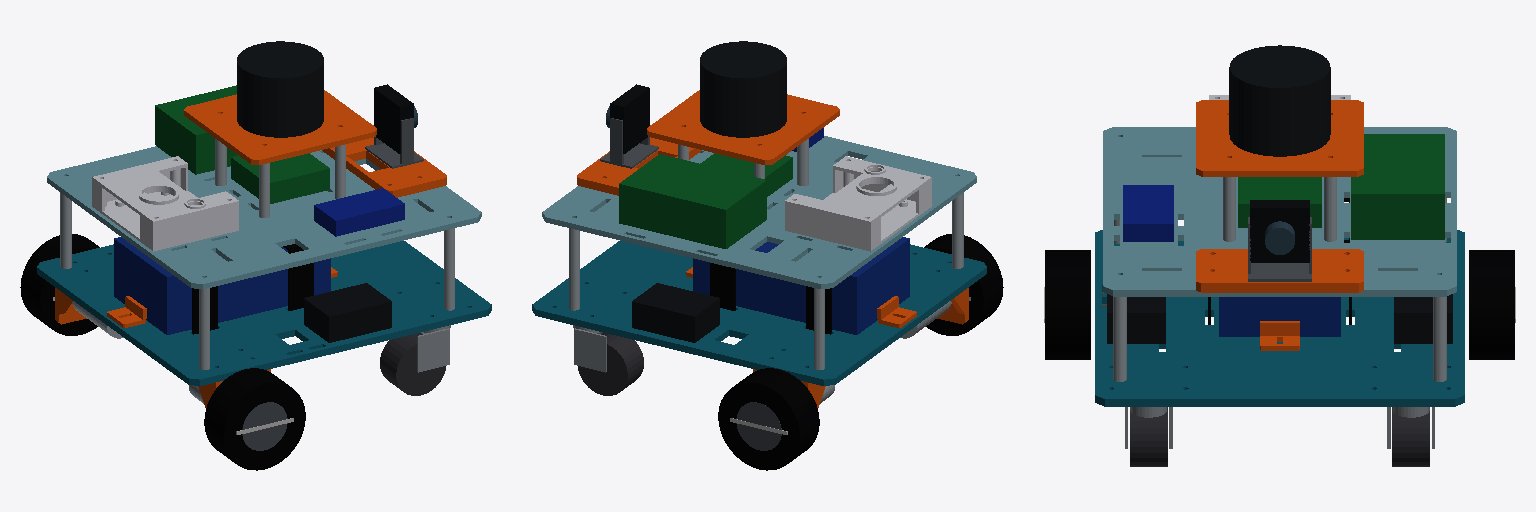
The robot description file, URDF, robot "smartcar":
<?xml version='1.0' encoding='utf-8'?>
<robot name="smartcar">
  <link name="base_footprint" />
  <joint name="base_footprint_joint" type="fixed">
    <parent link="base_footprint" />
    <child link="base_link" />
    <origin xyz="0 0 0.0325" rpy="0 0 0" />
  </joint>
  <link name="base_link">
    <inertial>
      <origin xyz="0.06 0 0.07" />
      <mass value="3.0" />
      <inertia ixx="0.0185" iyy="0.0208" izz="0.0265" ixy="0" ixz="0" iyz="0" />
    </inertial>
    <visual name="base_link_visual_0">
      <origin xyz="0 0 0" rpy="0 0 0" />
      <geometry>
        <mesh filename="package://smartcar_sim/models/smartcar/meshes/01_main_chassis.stl" />
      </geometry>
      <material name="base_link_color_0">
        <color rgba="0.08 0.35 0.42 1" />
      </material>
    </visual>
    <visual name="base_link_visual_1">
      <origin xyz="0 0 0" rpy="0 0 0" />
      <geometry>
        <mesh filename="package://smartcar_sim/models/smartcar/meshes/right_m2006_bracket.stl" />
      </geometry>
      <material name="base_link_color_1">
        <color rgba="0.8 0.32 0.06 1" />
      </material>
    </visual>
    <visual name="base_link_visual_2">
      <origin xyz="0 0 0" rpy="0 0 0" />
      <geometry>
        <mesh filename="package://smartcar_sim/models/smartcar/meshes/left_m2006_bracket.stl" />
      </geometry>
      <material name="base_link_color_2">
        <color rgba="0.8 0.32 0.06 1" />
      </material>
    </visual>
    <visual name="base_link_visual_3">
      <origin xyz="0 0 0" rpy="0 0 0" />
      <geometry>
        <mesh filename="package://smartcar_sim/models/smartcar/meshes/battery_rear_stop.stl" />
      </geometry>
      <material name="base_link_color_3">
        <color rgba="0.8 0.32 0.06 1" />
      </material>
    </visual>
    <visual name="base_link_visual_4">
      <origin xyz="0 0 0" rpy="0 0 0" />
      <geometry>
        <mesh filename="package://smartcar_sim/models/smartcar/meshes/battery_front_stop.stl" />
      </geometry>
      <material name="base_link_color_4">
        <color rgba="0.8 0.32 0.06 1" />
      </material>
    </visual>
    <visual name="base_link_visual_5">
      <origin xyz="0 0 0" rpy="0 0 0" />
      <geometry>
        <mesh filename="package://smartcar_sim/models/smartcar/meshes/upper_existing_power_box_v6_tray.stl" />
      </geometry>
      <material name="base_link_color_5">
        <color rgba="0.75 0.75 0.78 1" />
      </material>
    </visual>
    <visual name="base_link_visual_6">
      <origin xyz="0 0 0" rpy="0 0 0" />
      <geometry>
        <mesh filename="package://smartcar_sim/models/smartcar/meshes/upper_existing_power_box_v6_lid.stl" />
      </geometry>
      <material name="base_link_color_6">
        <color rgba="0.75 0.75 0.78 1" />
      </material>
    </visual>
    <visual name="base_link_visual_7">
      <origin xyz="0 0 0" rpy="0 0 0" />
      <geometry>
        <mesh filename="package://smartcar_sim/models/smartcar/meshes/02_upper_electronics_deck.stl" />
      </geometry>
      <material name="base_link_color_7">
        <color rgba="0.4 0.56 0.6 1" />
      </material>
    </visual>
    <visual name="base_link_visual_8">
      <origin xyz="0 0 0" rpy="0 0 0" />
      <geometry>
        <mesh filename="package://smartcar_sim/models/smartcar/meshes/03_lidar_adapter_plate.stl" />
      </geometry>
      <material name="base_link_color_8">
        <color rgba="0.8 0.32 0.06 1" />
      </material>
    </visual>
    <visual name="base_link_visual_9">
      <origin xyz="0 0 0" rpy="0 0 0" />
      <geometry>
        <mesh filename="package://smartcar_sim/models/smartcar/meshes/upper_front_camera_adapter.stl" />
      </geometry>
      <material name="base_link_color_9">
        <color rgba="0.8 0.32 0.06 1" />
      </material>
    </visual>
    <visual name="base_link_visual_10">
      <origin xyz="0.047 -0 0.0535" rpy="0 0 0" />
      <geometry>
        <box size="0.13 0.073 0.044" />
      </geometry>
      <material name="base_link_color_10">
        <color rgba="0.08 0.18 0.45 1" />
      </material>
    </visual>
    <visual name="base_link_visual_11">
      <origin xyz="0.0925 0.07 0.1205" rpy="0 0 0" />
      <geometry>
        <box size="0.085 0.056 0.03" />
      </geometry>
      <material name="base_link_color_11">
        <color rgba="0.07 0.35 0.16 1" />
      </material>
    </visual>
    <visual name="base_link_visual_12">
      <origin xyz="0.093 -0 0.1135" rpy="0 0 0" />
      <geometry>
        <box size="0.05 0.05 0.016" />
      </geometry>
      <material name="base_link_color_12">
        <color rgba="0.07 0.35 0.16 1" />
      </material>
    </visual>
    <visual name="base_link_visual_13">
      <origin xyz="0.1105 -0.078 0.1115" rpy="0 0 0" />
      <geometry>
        <box size="0.055 0.03 0.012" />
      </geometry>
      <material name="base_link_color_13">
        <color rgba="0.08 0.16 0.5 1" />
      </material>
    </visual>
    <visual name="base_link_visual_14">
      <origin xyz="0.097 0.0855 0.0415" rpy="0 0 0" />
      <geometry>
        <box size="0.05 0.035 0.02" />
      </geometry>
      <material name="base_link_color_14">
        <color rgba="0.08 0.09 0.1 1" />
      </material>
    </visual>
    <visual name="base_link_visual_15">
      <origin xyz="0.097 -0.0855 0.0415" rpy="0 0 0" />
      <geometry>
        <box size="0.05 0.035 0.02" />
      </geometry>
      <material name="base_link_color_15">
        <color rgba="0.08 0.09 0.1 1" />
      </material>
    </visual>
    <visual name="base_link_visual_16">
      <origin xyz="-0.022 0.095 0.064" rpy="0 0 0" />
      <geometry>
        <cylinder radius="0.004" length="0.065" />
      </geometry>
      <material name="base_link_color_16">
        <color rgba="0.55 0.58 0.6 1" />
      </material>
    </visual>
    <visual name="base_link_visual_17">
      <origin xyz="0.172 0.095 0.064" rpy="0 0 0" />
      <geometry>
        <cylinder radius="0.004" length="0.065" />
      </geometry>
      <material name="base_link_color_17">
        <color rgba="0.55 0.58 0.6 1" />
      </material>
    </visual>
    <visual name="base_link_visual_18">
      <origin xyz="-0.022 -0.095 0.064" rpy="0 0 0" />
      <geometry>
        <cylinder radius="0.004" length="0.065" />
      </geometry>
      <material name="base_link_color_18">
        <color rgba="0.55 0.58 0.6 1" />
      </material>
    </visual>
    <visual name="base_link_visual_19">
      <origin xyz="0.172 -0.095 0.064" rpy="0 0 0" />
      <geometry>
        <cylinder radius="0.004" length="0.065" />
      </geometry>
      <material name="base_link_color_19">
        <color rgba="0.55 0.58 0.6 1" />
      </material>
    </visual>
    <visual name="base_link_visual_20">
      <origin xyz="0.063 0.03 0.1255" rpy="0 0 0" />
      <geometry>
        <cylinder radius="0.004" length="0.05" />
      </geometry>
      <material name="base_link_color_20">
        <color rgba="0.55 0.58 0.6 1" />
      </material>
    </visual>
    <visual name="base_link_visual_21">
      <origin xyz="0.123 0.03 0.1255" rpy="0 0 0" />
      <geometry>
        <cylinder radius="0.004" length="0.05" />
      </geometry>
      <material name="base_link_color_21">
        <color rgba="0.55 0.58 0.6 1" />
      </material>
    </visual>
    <visual name="base_link_visual_22">
      <origin xyz="0.063 -0.03 0.1255" rpy="0 0 0" />
      <geometry>
        <cylinder radius="0.004" length="0.05" />
      </geometry>
      <material name="base_link_color_22">
        <color rgba="0.55 0.58 0.6 1" />
      </material>
    </visual>
    <visual name="base_link_visual_23">
      <origin xyz="0.123 -0.03 0.1255" rpy="0 0 0" />
      <geometry>
        <cylinder radius="0.004" length="0.05" />
      </geometry>
      <material name="base_link_color_23">
        <color rgba="0.55 0.58 0.6 1" />
      </material>
    </visual>
    <visual name="base_link_visual_24">
      <origin xyz="0 0.08 0" rpy="1.570796327 0 0" />
      <geometry>
        <cylinder radius="0.0122" length="0.0478" />
      </geometry>
      <material name="base_link_color_24">
        <color rgba="0.55 0.58 0.6 1" />
      </material>
    </visual>
    <visual name="base_link_visual_25">
      <origin xyz="0 -0.08 0" rpy="1.570796327 0 0" />
      <geometry>
        <cylinder radius="0.0122" length="0.0478" />
      </geometry>
      <material name="base_link_color_25">
        <color rgba="0.55 0.58 0.6 1" />
      </material>
    </visual>
    <visual name="base_link_visual_26">
      <origin xyz="0.009 0 0.077" rpy="0 0 0" />
      <geometry>
        <box size="0.02 0.0855 0.0015" />
      </geometry>
      <material name="base_link_color_26">
        <color rgba="0.04 0.04 0.04 1" />
      </material>
    </visual>
    <visual name="base_link_visual_27">
      <origin xyz="0.009 0.042 0.05175" rpy="0 0 0" />
      <geometry>
        <box size="0.02 0.0015 0.0525" />
      </geometry>
      <material name="base_link_color_27">
        <color rgba="0.04 0.04 0.04 1" />
      </material>
    </visual>
    <visual name="base_link_visual_28">
      <origin xyz="0.009 -0.042 0.05175" rpy="0 0 0" />
      <geometry>
        <box size="0.02 0.0015 0.0525" />
      </geometry>
      <material name="base_link_color_28">
        <color rgba="0.04 0.04 0.04 1" />
      </material>
    </visual>
    <visual name="base_link_visual_29">
      <origin xyz="0.085 0 0.077" rpy="0 0 0" />
      <geometry>
        <box size="0.02 0.0855 0.0015" />
      </geometry>
      <material name="base_link_color_29">
        <color rgba="0.04 0.04 0.04 1" />
      </material>
    </visual>
    <visual name="base_link_visual_30">
      <origin xyz="0.085 0.042 0.05175" rpy="0 0 0" />
      <geometry>
        <box size="0.02 0.0015 0.0525" />
      </geometry>
      <material name="base_link_color_30">
        <color rgba="0.04 0.04 0.04 1" />
      </material>
    </visual>
    <visual name="base_link_visual_31">
      <origin xyz="0.085 -0.042 0.05175" rpy="0 0 0" />
      <geometry>
        <box size="0.02 0.0015 0.0525" />
      </geometry>
      <material name="base_link_color_31">
        <color rgba="0.04 0.04 0.04 1" />
      </material>
    </visual>
    <collision name="base_link_collision_0">
      <origin xyz="0.08 0 0.027" rpy="0 0 0" />
      <geometry>
        <box size="0.24 0.22 0.009" />
      </geometry>
    </collision>
    <collision name="base_link_collision_1">
      <origin xyz="0.08 0 0.0985" rpy="0 0 0" />
      <geometry>
        <box size="0.23 0.21 0.004" />
      </geometry>
    </collision>
    <collision name="base_link_collision_2">
      <origin xyz="0.047 0 0.0535" rpy="0 0 0" />
      <geometry>
        <box size="0.13 0.073 0.044" />
      </geometry>
    </collision>
  </link>
  <link name="left_wheel_link">
    <inertial>
      <origin xyz="0 0 0" />
      <mass value="0.08" />
      <inertia ixx="2.5985000000000003e-05" iyy="4.2250000000000004e-05" izz="2.5985000000000003e-05" ixy="0" ixz="0" iyz="0" />
    </inertial>
    <visual name="left_wheel_link_visual_0">
      <origin xyz="0 0 0" rpy="1.570796327 0 0" />
      <geometry>
        <cylinder radius="0.0325" length="0.027" />
      </geometry>
      <material name="left_wheel_link_color_0">
        <color rgba="0.035 0.035 0.04 1" />
      </material>
    </visual>
    <visual name="left_wheel_link_visual_1">
      <origin xyz="0 0 0" rpy="1.570796327 0 0" />
      <geometry>
        <cylinder radius="0.018" length="0.0274" />
      </geometry>
      <material name="left_wheel_link_color_1">
        <color rgba="0.28 0.3 0.33 1" />
      </material>
    </visual>
    <visual name="left_wheel_link_visual_2">
      <origin xyz="0 0 0" rpy="0 0 0" />
      <geometry>
        <box size="0.045 0.0278 0.003" />
      </geometry>
      <material name="left_wheel_link_color_2">
        <color rgba="0.7 0.7 0.7 1" />
      </material>
    </visual>
    <collision name="left_wheel_link_collision_0">
      <origin xyz="0 0 0" rpy="1.570796327 0 0" />
      <geometry>
        <cylinder radius="0.0325" length="0.027" />
      </geometry>
    </collision>
  </link>
  <link name="right_wheel_link">
    <inertial>
      <origin xyz="0 0 0" />
      <mass value="0.08" />
      <inertia ixx="2.5985000000000003e-05" iyy="4.2250000000000004e-05" izz="2.5985000000000003e-05" ixy="0" ixz="0" iyz="0" />
    </inertial>
    <visual name="right_wheel_link_visual_0">
      <origin xyz="0 0 0" rpy="1.570796327 0 0" />
      <geometry>
        <cylinder radius="0.0325" length="0.027" />
      </geometry>
      <material name="right_wheel_link_color_0">
        <color rgba="0.035 0.035 0.04 1" />
      </material>
    </visual>
    <visual name="right_wheel_link_visual_1">
      <origin xyz="0 0 0" rpy="1.570796327 0 0" />
      <geometry>
        <cylinder radius="0.018" length="0.0274" />
      </geometry>
      <material name="right_wheel_link_color_1">
        <color rgba="0.28 0.3 0.33 1" />
      </material>
    </visual>
    <visual name="right_wheel_link_visual_2">
      <origin xyz="0 0 0" rpy="0 0 0" />
      <geometry>
        <box size="0.045 0.0278 0.003" />
      </geometry>
      <material name="right_wheel_link_color_2">
        <color rgba="0.7 0.7 0.7 1" />
      </material>
    </visual>
    <collision name="right_wheel_link_collision_0">
      <origin xyz="0 0 0" rpy="1.570796327 0 0" />
      <geometry>
        <cylinder radius="0.0325" length="0.027" />
      </geometry>
    </collision>
  </link>
  <link name="left_caster_swivel">
    <inertial>
      <origin xyz="0 0 -0.01" />
      <mass value="0.02" />
      <inertia ixx="4.166666666666667e-06" iyy="4.166666666666667e-06" izz="3e-06" ixy="0" ixz="0" iyz="0" />
    </inertial>
    <visual name="left_caster_swivel_visual_0">
      <origin xyz="0 0 0.004" rpy="0 0 0" />
      <geometry>
        <cylinder radius="0.011" length="0.012" />
      </geometry>
      <material name="left_caster_swivel_color_0">
        <color rgba="0.5 0.52 0.54 1" />
      </material>
    </visual>
    <visual name="left_caster_swivel_visual_1">
      <origin xyz="-0.0085 -0.01325 -0.012" rpy="0 0 0" />
      <geometry>
        <box size="0.025 0.0018 0.027" />
      </geometry>
      <material name="left_caster_swivel_color_1">
        <color rgba="0.5 0.52 0.54 1" />
      </material>
    </visual>
    <visual name="left_caster_swivel_visual_2">
      <origin xyz="-0.0085 0.01325 -0.012" rpy="0 0 0" />
      <geometry>
        <box size="0.025 0.0018 0.027" />
      </geometry>
      <material name="left_caster_swivel_color_2">
        <color rgba="0.5 0.52 0.54 1" />
      </material>
    </visual>
  </link>
  <link name="left_caster_wheel">
    <inertial>
      <origin xyz="0 0 0" />
      <mass value="0.04" />
      <inertia ixx="5.687499999999999e-06" iyy="8.000000000000001e-06" izz="5.687499999999999e-06" ixy="0" ixz="0" iyz="0" />
    </inertial>
    <visual name="left_caster_wheel_visual_0">
      <origin xyz="0 0 0" rpy="1.570796327 0 0" />
      <geometry>
        <cylinder radius="0.02" length="0.0225" />
      </geometry>
      <material name="left_caster_wheel_color_0">
        <color rgba="0.2 0.2 0.22 1" />
      </material>
    </visual>
    <collision name="left_caster_wheel_collision_0">
      <origin xyz="0 0 0" rpy="1.570796327 0 0" />
      <geometry>
        <cylinder radius="0.02" length="0.0225" />
      </geometry>
    </collision>
  </link>
  <link name="right_caster_swivel">
    <inertial>
      <origin xyz="0 0 -0.01" />
      <mass value="0.02" />
      <inertia ixx="4.166666666666667e-06" iyy="4.166666666666667e-06" izz="3e-06" ixy="0" ixz="0" iyz="0" />
    </inertial>
    <visual name="right_caster_swivel_visual_0">
      <origin xyz="0 0 0.004" rpy="0 0 0" />
      <geometry>
        <cylinder radius="0.011" length="0.012" />
      </geometry>
      <material name="right_caster_swivel_color_0">
        <color rgba="0.5 0.52 0.54 1" />
      </material>
    </visual>
    <visual name="right_caster_swivel_visual_1">
      <origin xyz="-0.0085 -0.01325 -0.012" rpy="0 0 0" />
      <geometry>
        <box size="0.025 0.0018 0.027" />
      </geometry>
      <material name="right_caster_swivel_color_1">
        <color rgba="0.5 0.52 0.54 1" />
      </material>
    </visual>
    <visual name="right_caster_swivel_visual_2">
      <origin xyz="-0.0085 0.01325 -0.012" rpy="0 0 0" />
      <geometry>
        <box size="0.025 0.0018 0.027" />
      </geometry>
      <material name="right_caster_swivel_color_2">
        <color rgba="0.5 0.52 0.54 1" />
      </material>
    </visual>
  </link>
  <link name="right_caster_wheel">
    <inertial>
      <origin xyz="0 0 0" />
      <mass value="0.04" />
      <inertia ixx="5.687499999999999e-06" iyy="8.000000000000001e-06" izz="5.687499999999999e-06" ixy="0" ixz="0" iyz="0" />
    </inertial>
    <visual name="right_caster_wheel_visual_0">
      <origin xyz="0 0 0" rpy="1.570796327 0 0" />
      <geometry>
        <cylinder radius="0.02" length="0.0225" />
      </geometry>
      <material name="right_caster_wheel_color_0">
        <color rgba="0.2 0.2 0.22 1" />
      </material>
    </visual>
    <collision name="right_caster_wheel_collision_0">
      <origin xyz="0 0 0" rpy="1.570796327 0 0" />
      <geometry>
        <cylinder radius="0.02" length="0.0225" />
      </geometry>
    </collision>
  </link>
  <link name="lidar_link">
    <inertial>
      <origin xyz="0 0 0.0225" />
      <mass value="0.11" />
      <inertia ixx="5.156249999999999e-05" iyy="5.156249999999999e-05" izz="6.599999999999999e-05" ixy="0" ixz="0" iyz="0" />
    </inertial>
    <visual name="lidar_link_visual_0">
      <origin xyz="0 0 0.0225" rpy="0 0 0" />
      <geometry>
        <cylinder radius="0.03" length="0.045" />
      </geometry>
      <material name="lidar_link_color_0">
        <color rgba="0.09 0.1 0.11 1" />
      </material>
    </visual>
    <collision name="lidar_link_collision_0">
      <origin xyz="0 0 0.0225" rpy="0 0 0" />
      <geometry>
        <box size="0.06 0.06 0.045" />
      </geometry>
    </collision>
  </link>
  <link name="laser_frame" />
  <link name="camera_link">
    <inertial>
      <origin xyz="-0.0145 0 0" />
      <mass value="0.08" />
      <inertia ixx="2.3126666666666667e-05" iyy="1.7666666666666668e-05" izz="1.3793333333333334e-05" ixy="0" ixz="0" iyz="0" />
    </inertial>
    <visual name="camera_link_visual_0">
      <origin xyz="-0.0145 0 0" rpy="0 0 0" />
      <geometry>
        <box size="0.011 0.036 0.036" />
      </geometry>
      <material name="camera_link_color_0">
        <color rgba="0.06 0.07 0.08 1" />
      </material>
    </visual>
    <visual name="camera_link_visual_1">
      <origin xyz="-0.0045 0 0" rpy="0 1.570796327 0" />
      <geometry>
        <cylinder radius="0.009" length="0.009" />
      </geometry>
      <material name="camera_link_color_1">
        <color rgba="0.18 0.25 0.3 1" />
      </material>
    </visual>
    <visual name="camera_link_visual_2">
      <origin xyz="-0.014 0 -0.02625" rpy="0 0 0" />
      <geometry>
        <box size="0.025 0.038 0.0015" />
      </geometry>
      <material name="camera_link_color_2">
        <color rgba="0.3 0.32 0.34 1" />
      </material>
    </visual>
    <visual name="camera_link_visual_3">
      <origin xyz="-0.014 -0.018 -0.009" rpy="0 0 0" />
      <geometry>
        <box size="0.01 0.002 0.033" />
      </geometry>
      <material name="camera_link_color_3">
        <color rgba="0.3 0.32 0.34 1" />
      </material>
    </visual>
    <visual name="camera_link_visual_4">
      <origin xyz="-0.014 0.018 -0.009" rpy="0 0 0" />
      <geometry>
        <box size="0.01 0.002 0.033" />
      </geometry>
      <material name="camera_link_color_4">
        <color rgba="0.3 0.32 0.34 1" />
      </material>
    </visual>
    <collision name="camera_link_collision_0">
      <origin xyz="-0.0125 0 -0.0045" rpy="0 0 0" />
      <geometry>
        <box size="0.025 0.038 0.045" />
      </geometry>
    </collision>
  </link>
  <link name="camera_optical_frame" />
  <joint name="left_wheel_joint" type="continuous">
    <parent link="base_link" />
    <child link="left_wheel_link" />
    <origin xyz="0 0.126 0" rpy="0 0 0" />
    <axis xyz="0 1 0" />
    <limit effort="5" velocity="20" />
    <dynamics damping="0.001" friction="0" />
  </joint>
  <joint name="right_wheel_joint" type="continuous">
    <parent link="base_link" />
    <child link="right_wheel_link" />
    <origin xyz="0 -0.126 0" rpy="0 0 0" />
    <axis xyz="0 1 0" />
    <limit effort="5" velocity="20" />
    <dynamics damping="0.001" friction="0" />
  </joint>
  <joint name="left_caster_swivel_joint" type="continuous">
    <parent link="base_link" />
    <child link="left_caster_swivel" />
    <origin xyz="0.17 0.078 0.0125" rpy="0 0 0" />
    <axis xyz="0 0 1" />
    <limit effort="5" velocity="20" />
    <dynamics damping="0.0005" friction="0" />
  </joint>
  <joint name="left_caster_roll_joint" type="continuous">
    <parent link="left_caster_swivel" />
    <child link="left_caster_wheel" />
    <origin xyz="-0.017 0 -0.025" rpy="0 0 0" />
    <axis xyz="0 1 0" />
    <limit effort="5" velocity="20" />
    <dynamics damping="0.0001" friction="0" />
  </joint>
  <joint name="right_caster_swivel_joint" type="continuous">
    <parent link="base_link" />
    <child link="right_caster_swivel" />
    <origin xyz="0.17 -0.078 0.0125" rpy="0 0 0" />
    <axis xyz="0 0 1" />
    <limit effort="5" velocity="20" />
    <dynamics damping="0.0005" friction="0" />
  </joint>
  <joint name="right_caster_roll_joint" type="continuous">
    <parent link="right_caster_swivel" />
    <child link="right_caster_wheel" />
    <origin xyz="-0.017 0 -0.025" rpy="0 0 0" />
    <axis xyz="0 1 0" />
    <limit effort="5" velocity="20" />
    <dynamics damping="0.0001" friction="0" />
  </joint>
  <joint name="lidar_mount_joint" type="fixed">
    <parent link="base_link" />
    <child link="lidar_link" />
    <origin xyz="0.093 0 0.1545" rpy="0 0 0" />
  </joint>
  <joint name="laser_frame_joint" type="fixed">
    <parent link="lidar_link" />
    <child link="laser_frame" />
    <origin xyz="0 0 0.033" rpy="0 0 0" />
  </joint>
  <joint name="camera_mount_joint" type="fixed">
    <parent link="base_link" />
    <child link="camera_link" />
    <origin xyz="0.197 0 0.1335" rpy="0 0 0" />
  </joint>
  <joint name="camera_optical_joint" type="fixed">
    <parent link="camera_link" />
    <child link="camera_optical_frame" />
    <origin xyz="0 0 0" rpy="-1.570796327 0 -1.570796327" />
  </joint>
</robot>

--- Facts derived from the render (not from the file) ---
Views: 3 orthographic renders of the robot side by side, from view 1: azimuth 30°, elevation 25°; view 2: azimuth 150°, elevation 25°; view 3: azimuth 270°, elevation 25°.
Model smartcar with 12 links and 11 joints (6 continuous, 5 fixed), rooted at base_footprint, posed every joint at zero.
Visible links, largest first — view 1: base_link, right_wheel_link, lidar_link, camera_link, left_wheel_link, right_caster_wheel, right_caster_swivel; view 2: base_link, left_wheel_link, lidar_link, camera_link, right_wheel_link, left_caster_wheel, left_caster_swivel; view 3: base_link, lidar_link, camera_link, left_wheel_link, right_wheel_link, left_caster_wheel, right_caster_wheel, left_caster_swivel, right_caster_swivel.
Boxes of the visible links, x1,y1,x2,y2 form: base_link: (37, 85, 491, 407); right_wheel_link: (204, 368, 305, 470); lidar_link: (237, 41, 323, 137); camera_link: (365, 84, 423, 168); left_wheel_link: (20, 234, 99, 335); right_caster_wheel: (380, 333, 445, 395); right_caster_swivel: (417, 325, 450, 372); base_link: (532, 90, 986, 407); left_wheel_link: (718, 368, 819, 470); lidar_link: (700, 41, 786, 137); camera_link: (600, 84, 658, 168); right_wheel_link: (924, 234, 1003, 335); left_caster_wheel: (578, 333, 643, 395); left_caster_swivel: (573, 325, 606, 372); base_link: (1095, 95, 1464, 406); lidar_link: (1229, 45, 1330, 156); camera_link: (1248, 200, 1311, 281); left_wheel_link: (1469, 250, 1515, 359); right_wheel_link: (1044, 250, 1090, 359); left_caster_wheel: (1392, 407, 1429, 466); right_caster_wheel: (1130, 407, 1167, 466); left_caster_swivel: (1387, 407, 1434, 448); right_caster_swivel: (1125, 407, 1172, 448).
Size in the robot's own frame: 0.24 by 0.2798 by 0.232 metres.
10 mesh visuals loaded from 10 distinct referenced files (10 binary STL).
